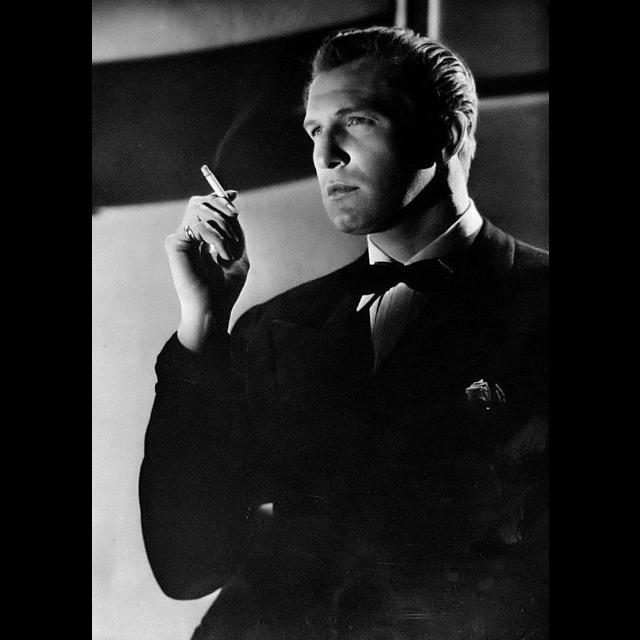rokok: (197, 160, 235, 206)
